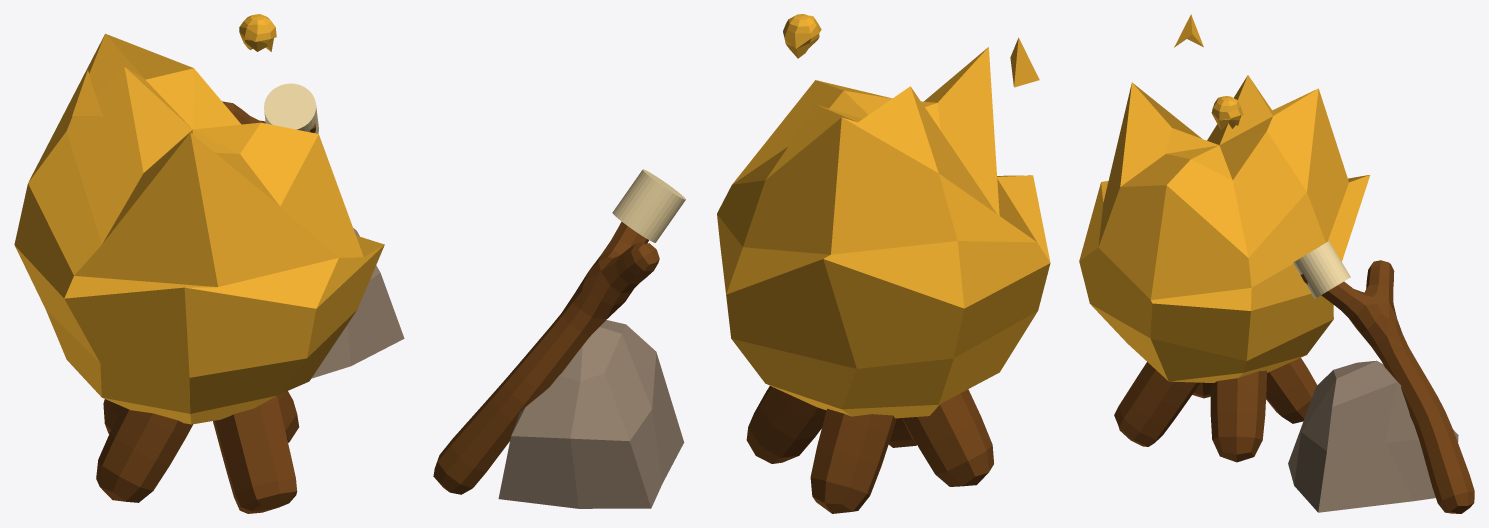
Rendered from fase1-fogueira.fbx.
3 views of the same model, side by side, from view 1: azimuth 30°, elevation 25°; view 2: azimuth 150°, elevation 25°; view 3: azimuth 270°, elevation 25° (orthographic). The views are drawn at different scales.
Parts seen in each view (by area): view 1: Esfera UV.001; view 2: Esfera UV.001; view 3: Esfera UV.001.
Boxes of the visible parts, x1,y1,x2,y2 form: Esfera UV.001: (14, 14, 404, 513); Esfera UV.001: (433, 14, 1050, 513); Esfera UV.001: (1079, 14, 1474, 513).
Size of the model in its own units: 276 by 274 by 265.
